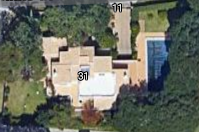pool: (148, 42, 170, 89)
